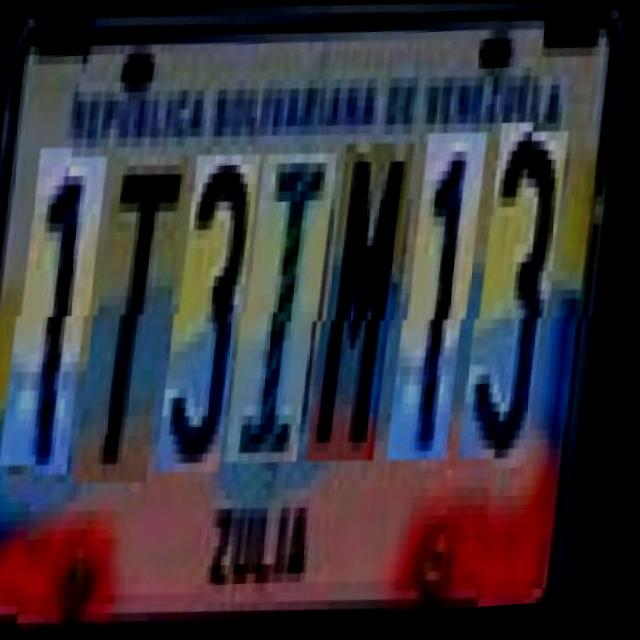1: (14, 154, 113, 477), (402, 131, 492, 463)
3: (474, 120, 573, 462), (172, 152, 264, 475)
i: (240, 151, 342, 465)
m: (321, 141, 419, 464)
t: (90, 153, 193, 485)
